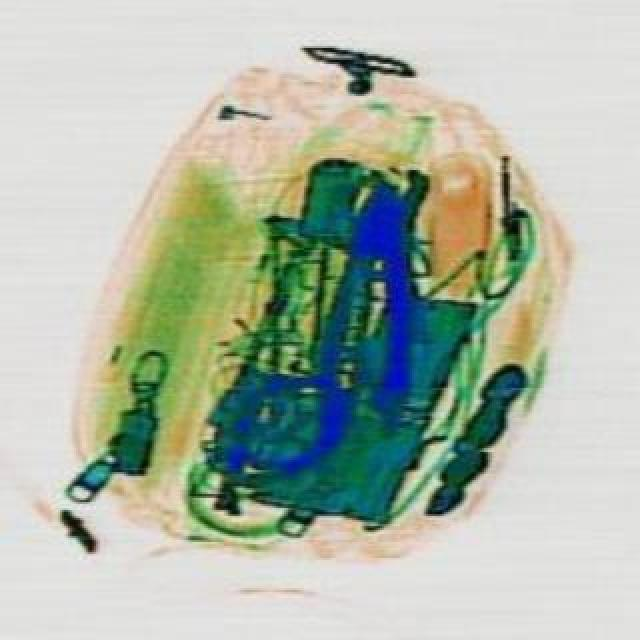wrench: (310, 174, 432, 408)
